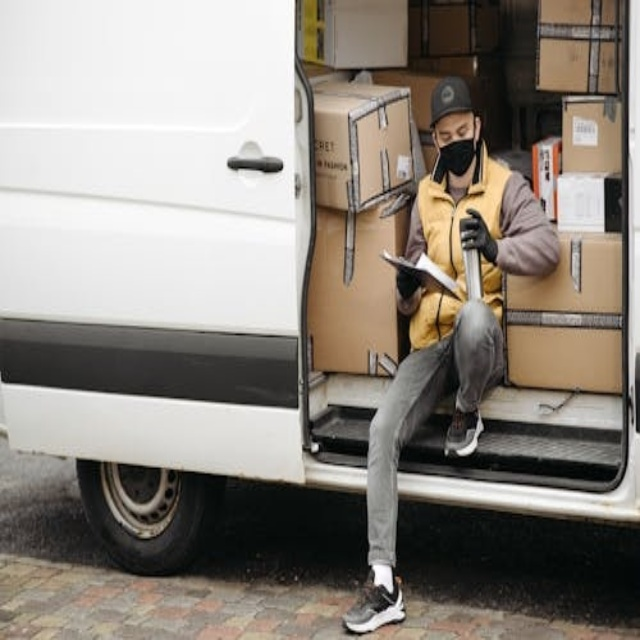Guantes: (461, 207, 499, 264), (395, 262, 422, 300)
Mascara: (434, 129, 478, 179)
Sin_gafas: (434, 117, 474, 144)
